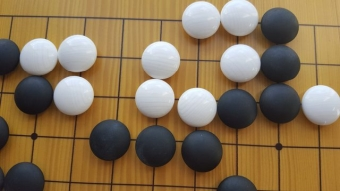black: (88, 118, 132, 163), (134, 124, 177, 169), (180, 129, 223, 173), (258, 82, 302, 125), (217, 86, 258, 131), (12, 76, 53, 117), (260, 43, 300, 82)
crossing: (269, 135, 294, 160), (23, 125, 47, 150), (66, 129, 84, 147), (113, 51, 131, 67), (116, 12, 134, 27), (40, 9, 56, 25), (309, 18, 324, 34)
white: (140, 40, 182, 80), (58, 34, 98, 74)
